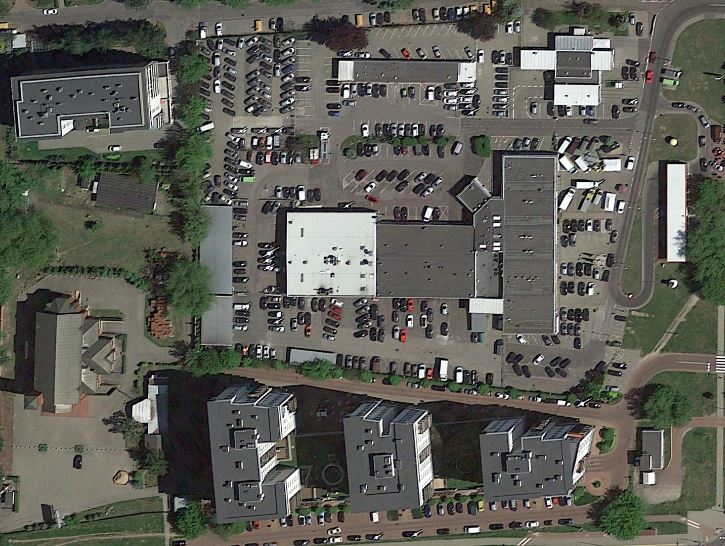block of flats: (19, 287, 130, 426), (201, 380, 302, 526), (5, 61, 171, 143), (338, 398, 442, 518), (474, 412, 602, 508)
garage: (192, 198, 246, 354), (334, 54, 483, 93), (661, 155, 693, 268)
shopping_center: (259, 143, 562, 343)
